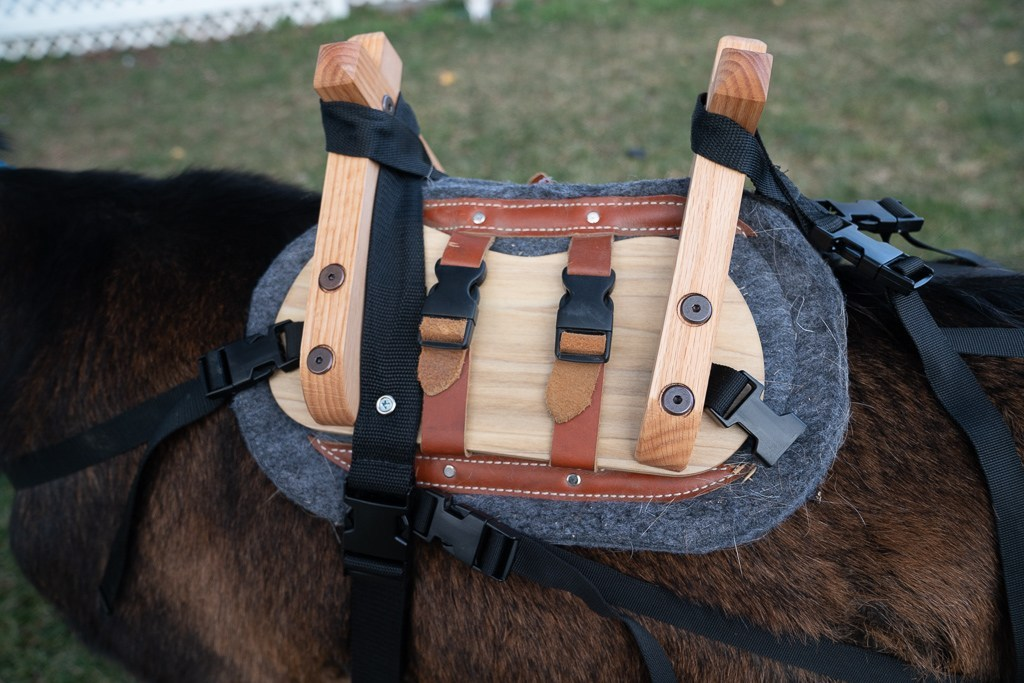saddle: (260, 29, 887, 545)
